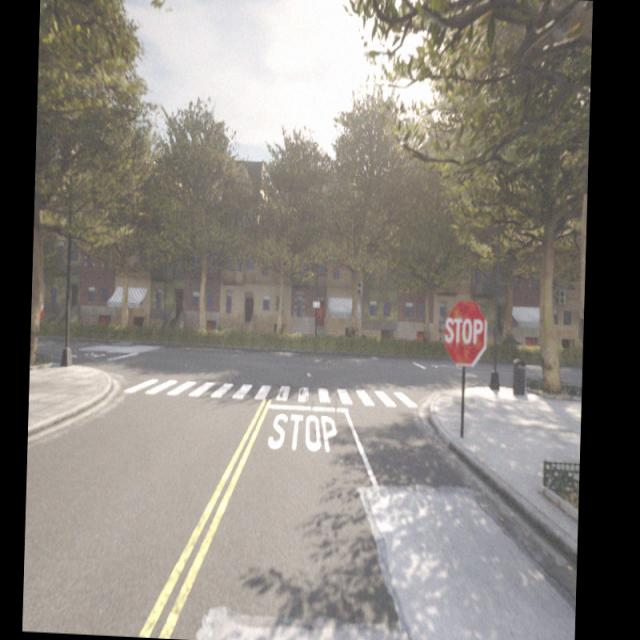stop sign: (442, 297, 488, 369), (443, 314, 484, 346)
